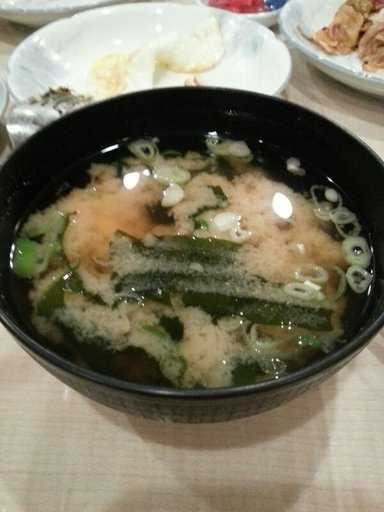soup: (24, 104, 358, 392)
